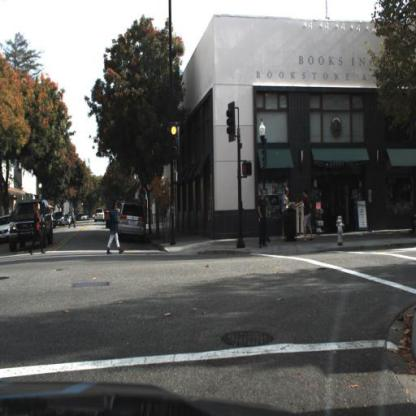car: (4, 199, 52, 252), (118, 199, 149, 244), (92, 204, 107, 228), (2, 214, 11, 245), (53, 211, 66, 227), (95, 208, 105, 224)
pedestrian: (104, 202, 126, 259), (31, 200, 49, 258), (256, 188, 271, 253), (298, 183, 313, 246), (30, 204, 46, 259), (279, 183, 293, 241), (69, 208, 78, 231)
trafficLight-Red: (170, 125, 180, 160)
